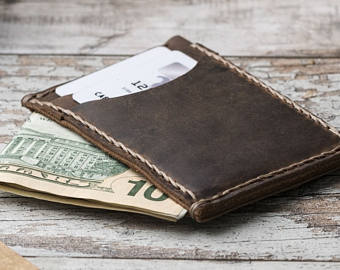monedero: (20, 33, 340, 229)
